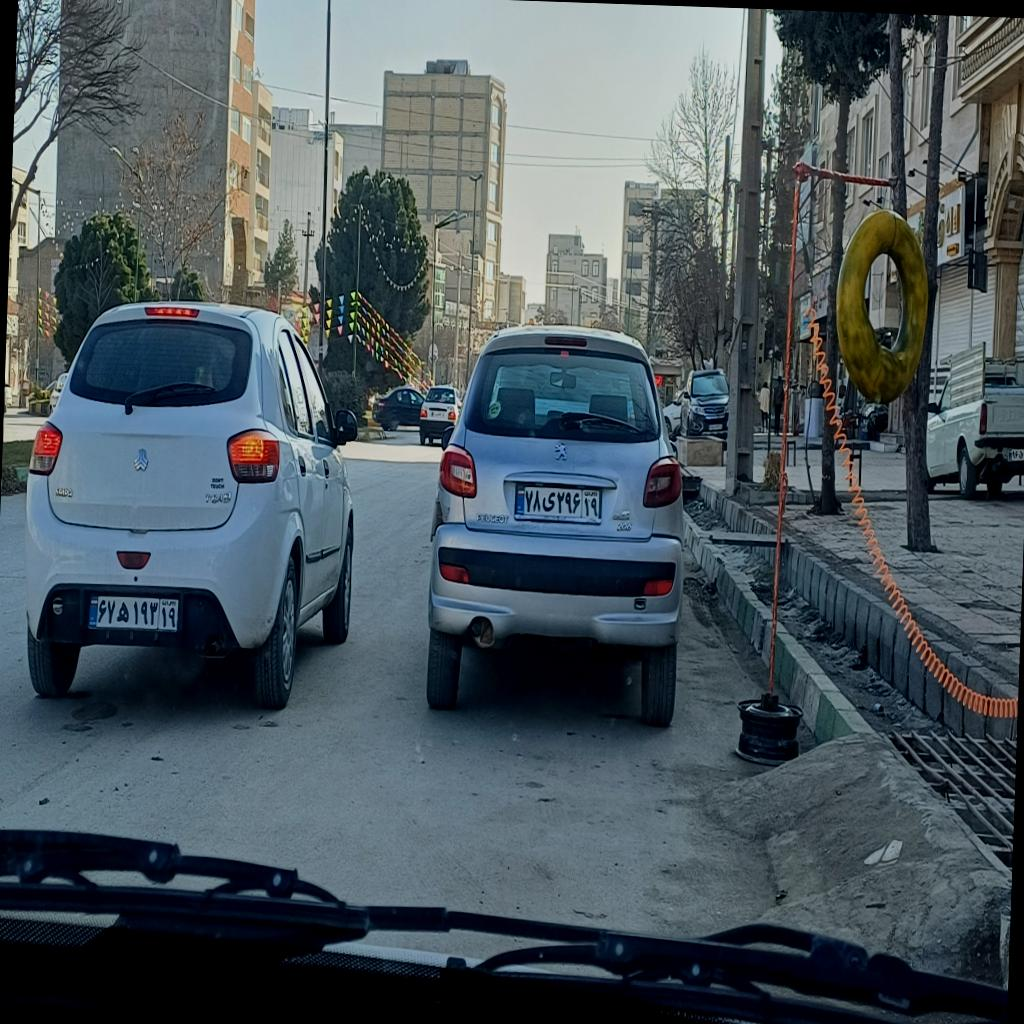Plates: (516, 479, 603, 524), (89, 594, 180, 634)
